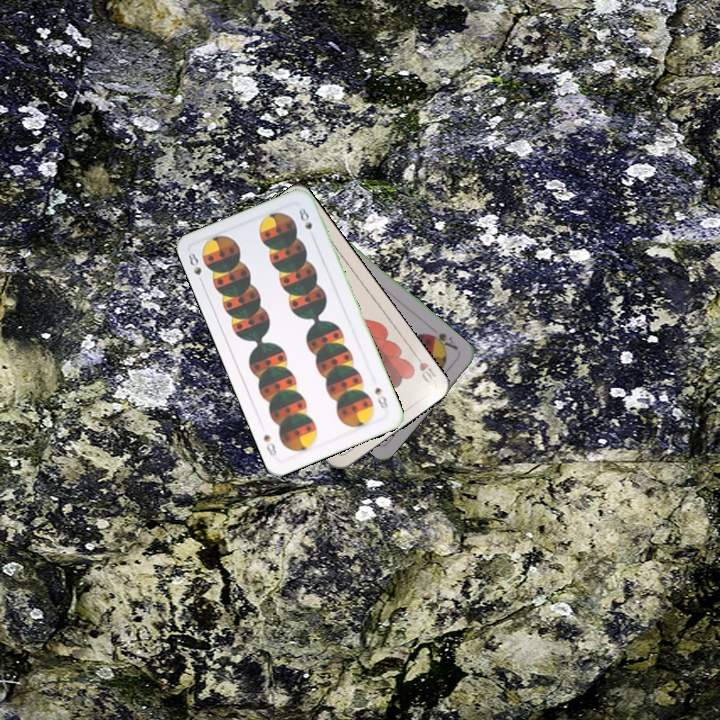H10: (409, 348, 439, 385)
S8: (184, 248, 206, 287), (371, 383, 391, 413)
SA: (424, 329, 461, 353)
